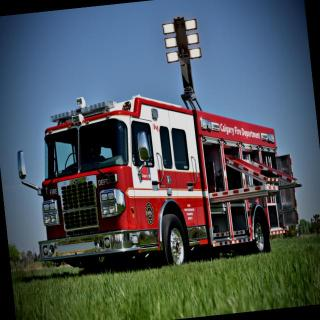Fire_truck: (1, 22, 320, 316)
